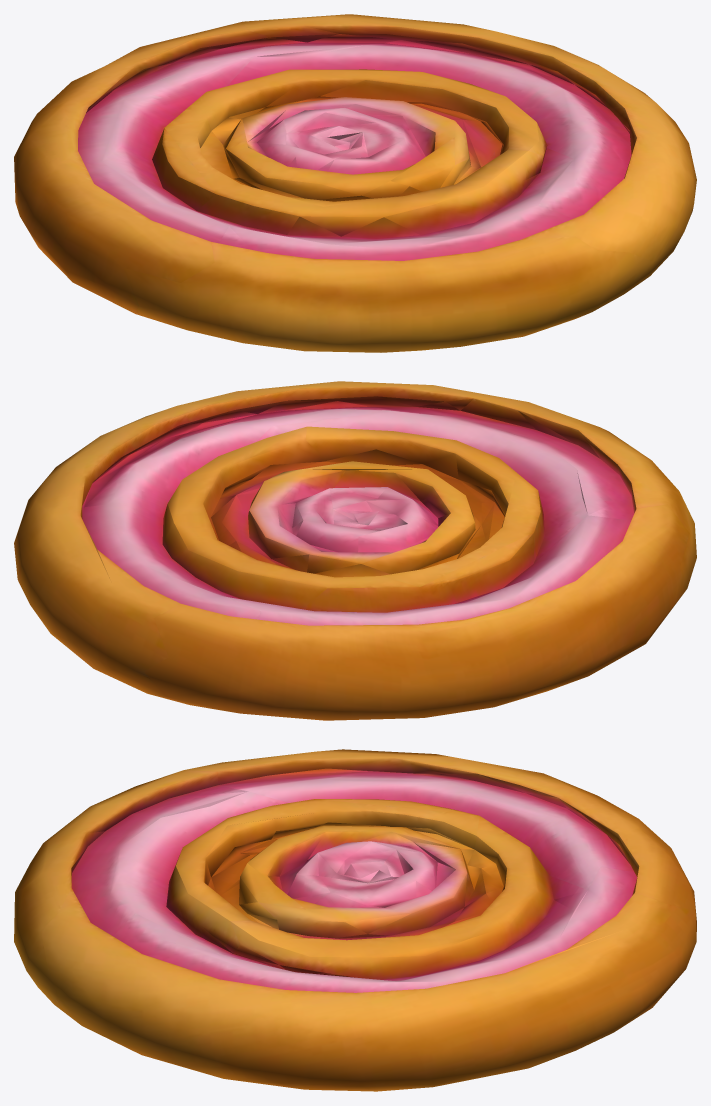
File: m2CandyCoin.glb
3 renders of one model, top to bottom at view 1: azimuth 30°, elevation 25°; view 2: azimuth 150°, elevation 25°; view 3: azimuth 270°, elevation 25°, orthographic.
Visible parts, largest first — view 1: model; view 2: model; view 3: model.
Part boxes in pixels (bbox=[...]): model: bbox=[14, 14, 696, 352]; model: bbox=[14, 381, 696, 720]; model: bbox=[14, 749, 696, 1091].
Bounding box in the file's own units: 1.88 × 0.3007 × 1.89.
Materials: 1 (1 with a texture image).
